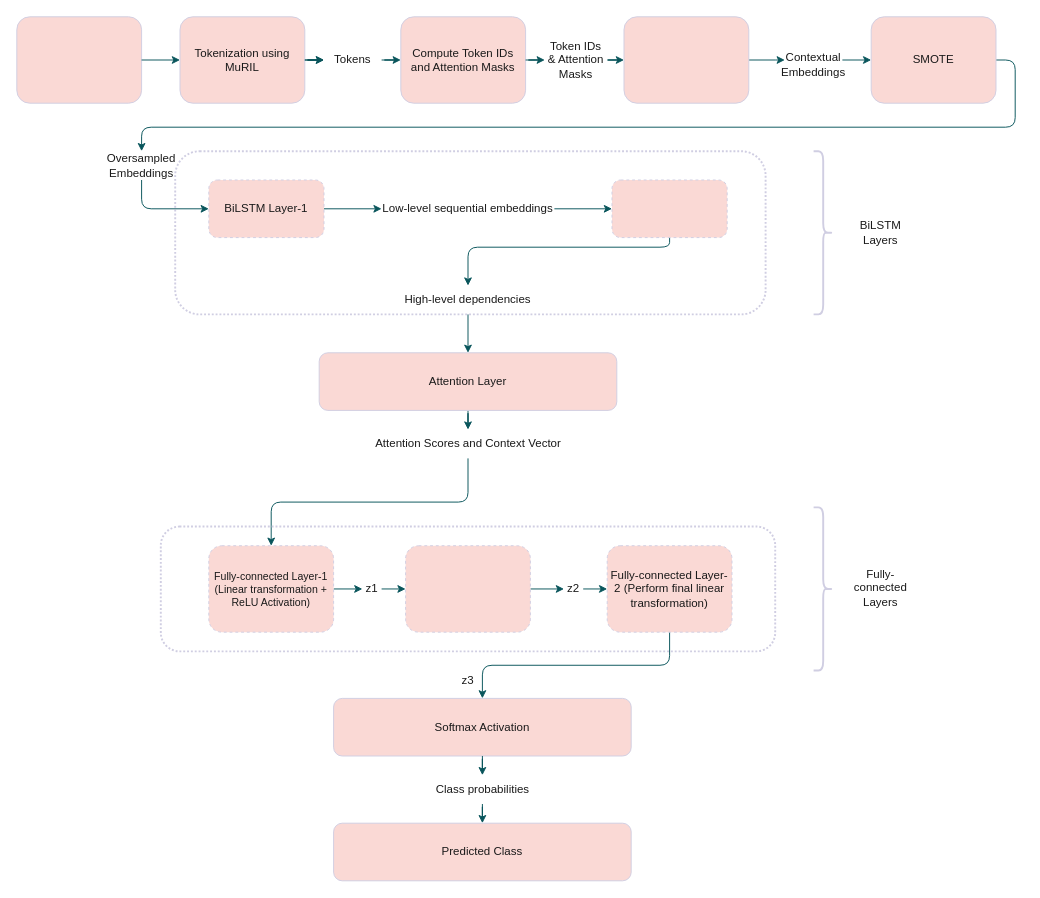
The diagram is 1040 pixels wide and 898 high, and some of its shapes have lost their labels. Here are the shapes that lost their labels. From the top down, the box of each, then its label:
(16, 16, 142, 103): Raw Input from TransforMojiCorpus
(623, 16, 749, 103): MuRIL Embedding Layer
(611, 179, 727, 238): BiLSTM Layer-2
(405, 545, 530, 632): Dropout Layer (Dropout regularization on z1)
